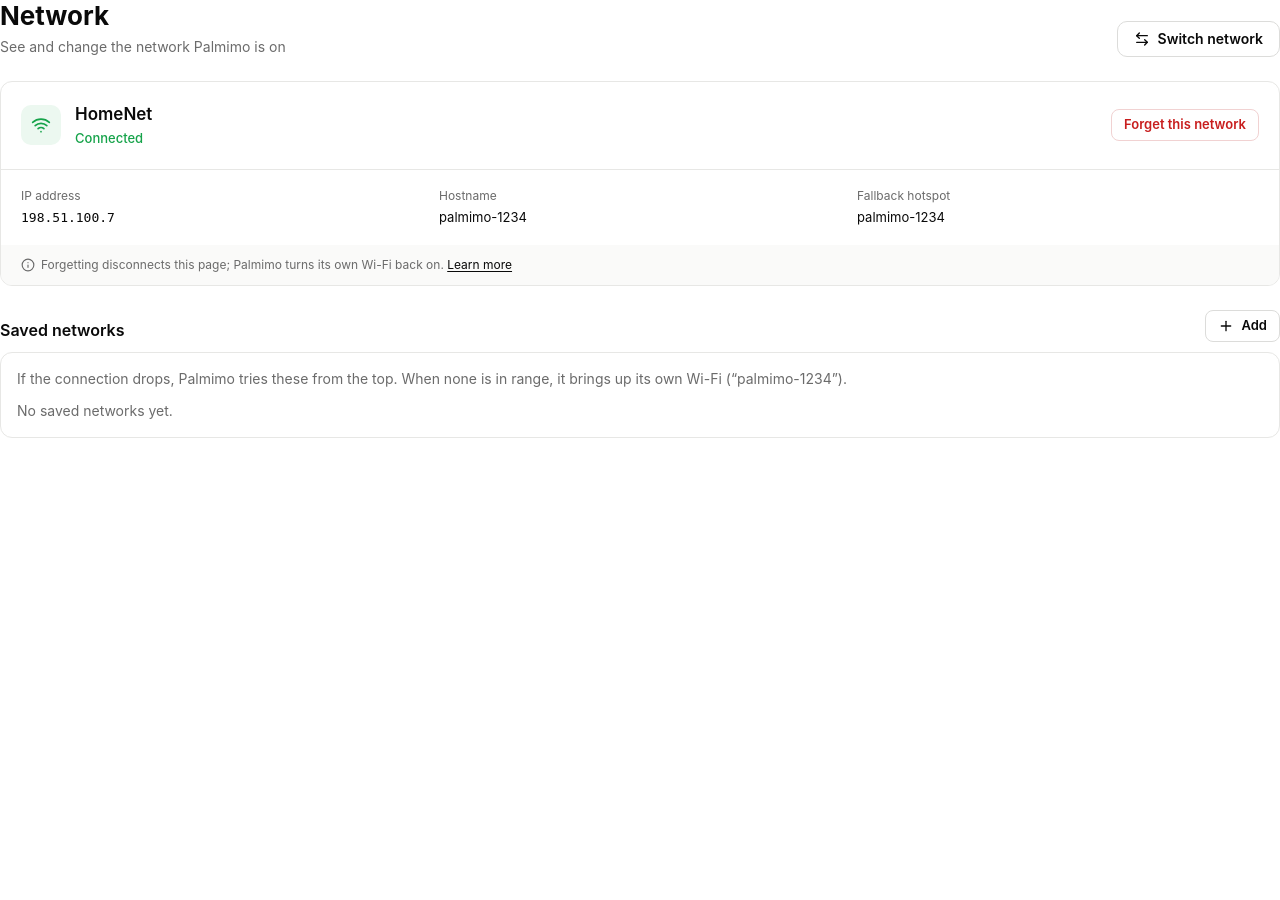
WifiSettingsPanel › shows an error alert on a 503 and does not switch to the terminal state
Click the button "Forget this network": (1185, 125) [1111,109,1259,141]
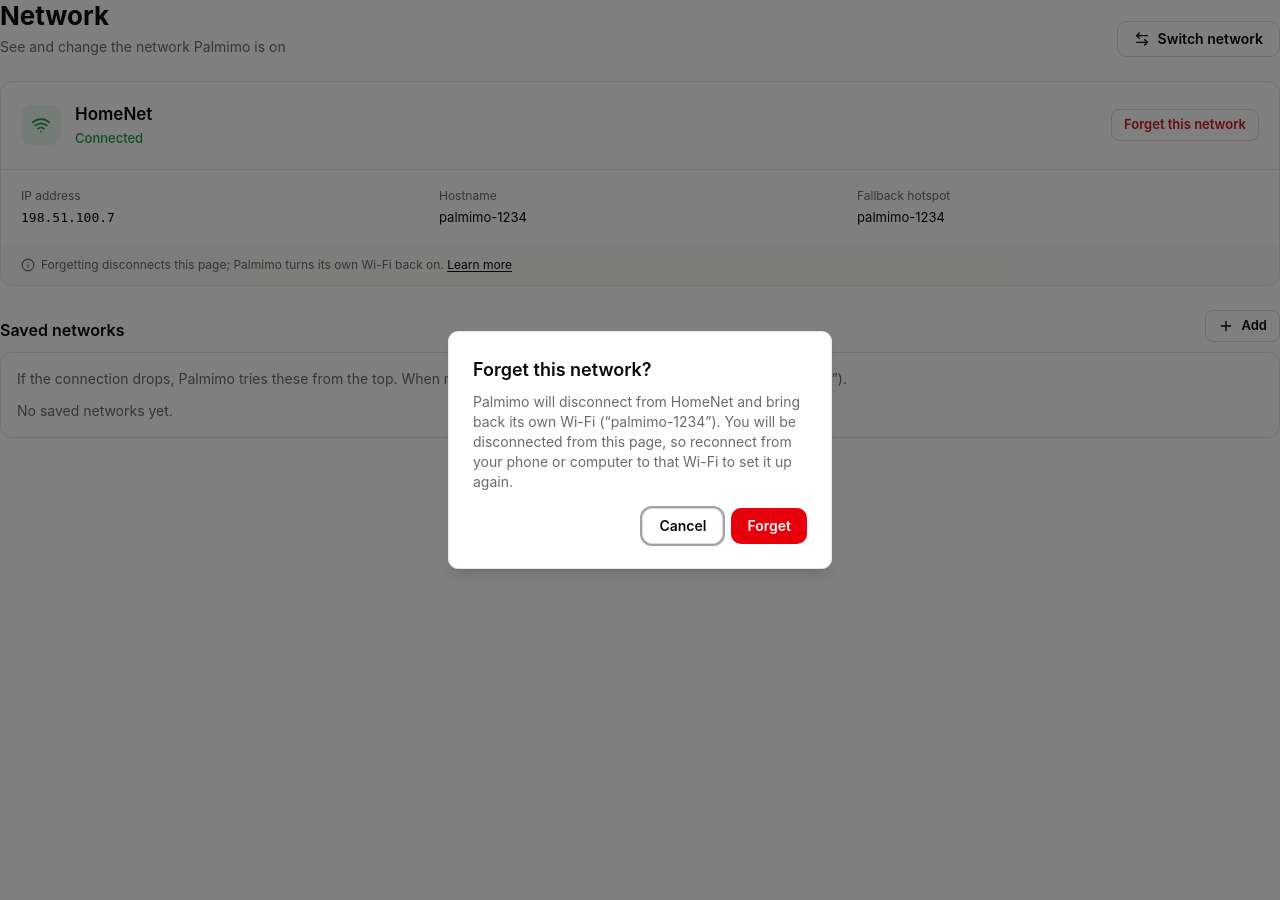
Click the button "Forget": (769, 526) [732,508,807,544]
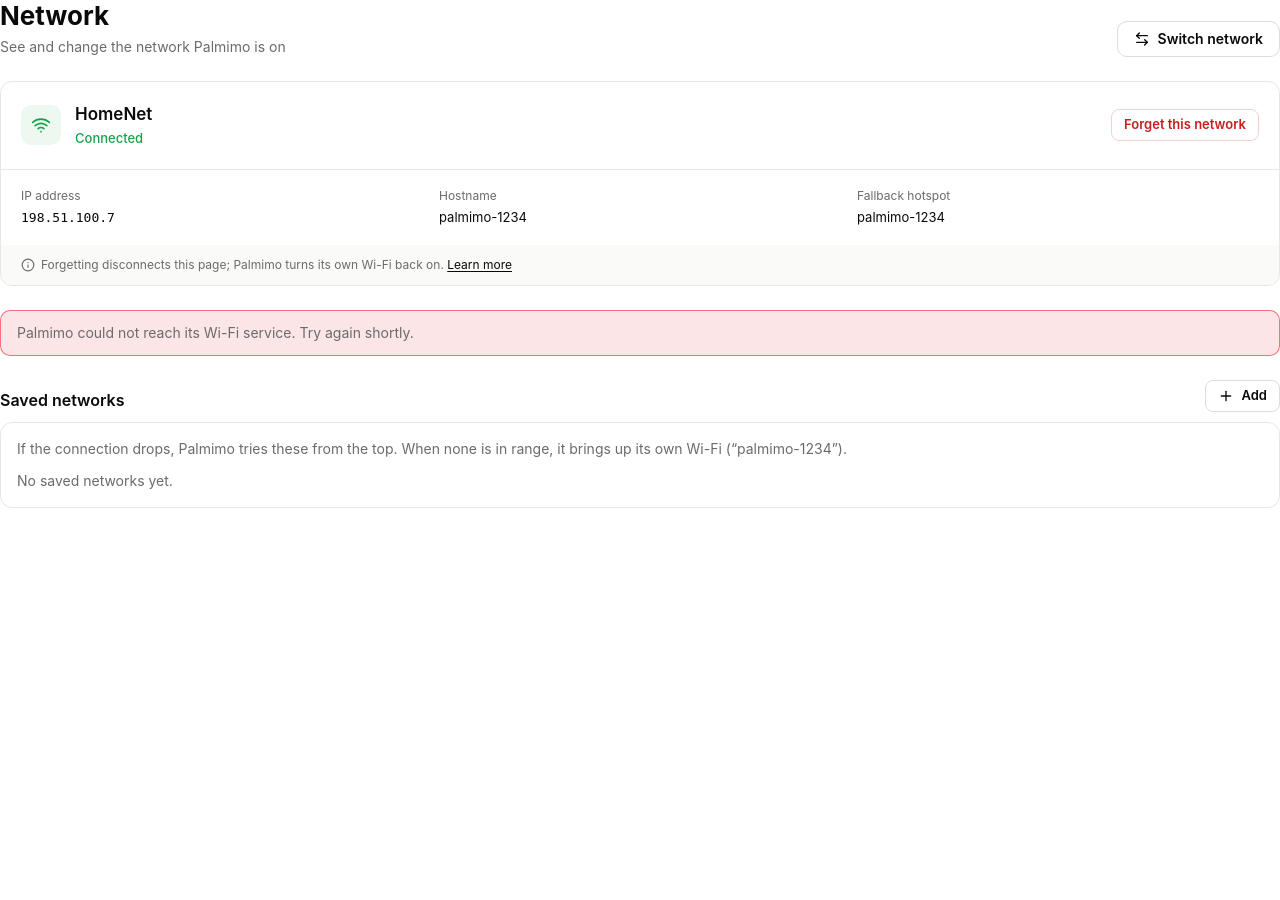
Check: the text "Palmimo could not reach its Wi-Fi service. Try again shortly." is shown, box [17,324,414,341]
Check: the dialog is gone
